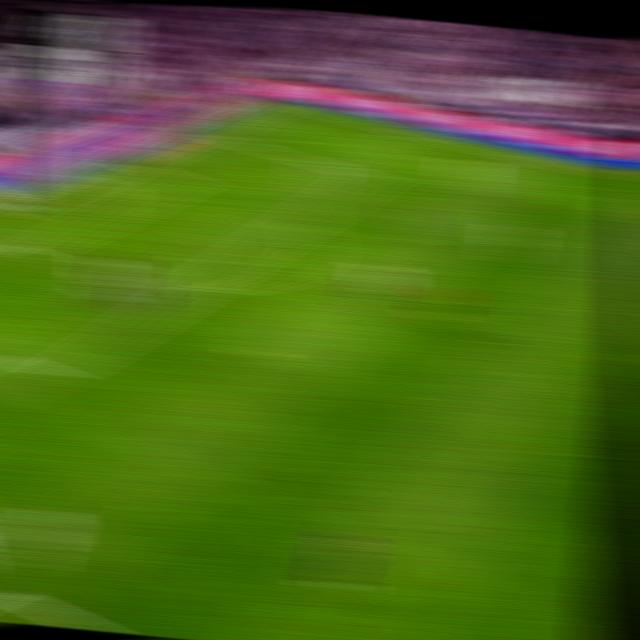bigarea_bottom_inner: (39, 360, 77, 388)
bigarea_top_inner: (356, 168, 387, 184)
bigarea_top_outter: (191, 125, 224, 139)
bottom_arc_area_intersection: (177, 276, 214, 299)
smallarea_bottom_inner: (11, 241, 46, 262)
smallarea_top_inner: (171, 174, 200, 186)
smallarea_top_outter: (117, 157, 149, 168)
top_arc_area_intersection: (286, 212, 318, 229)
